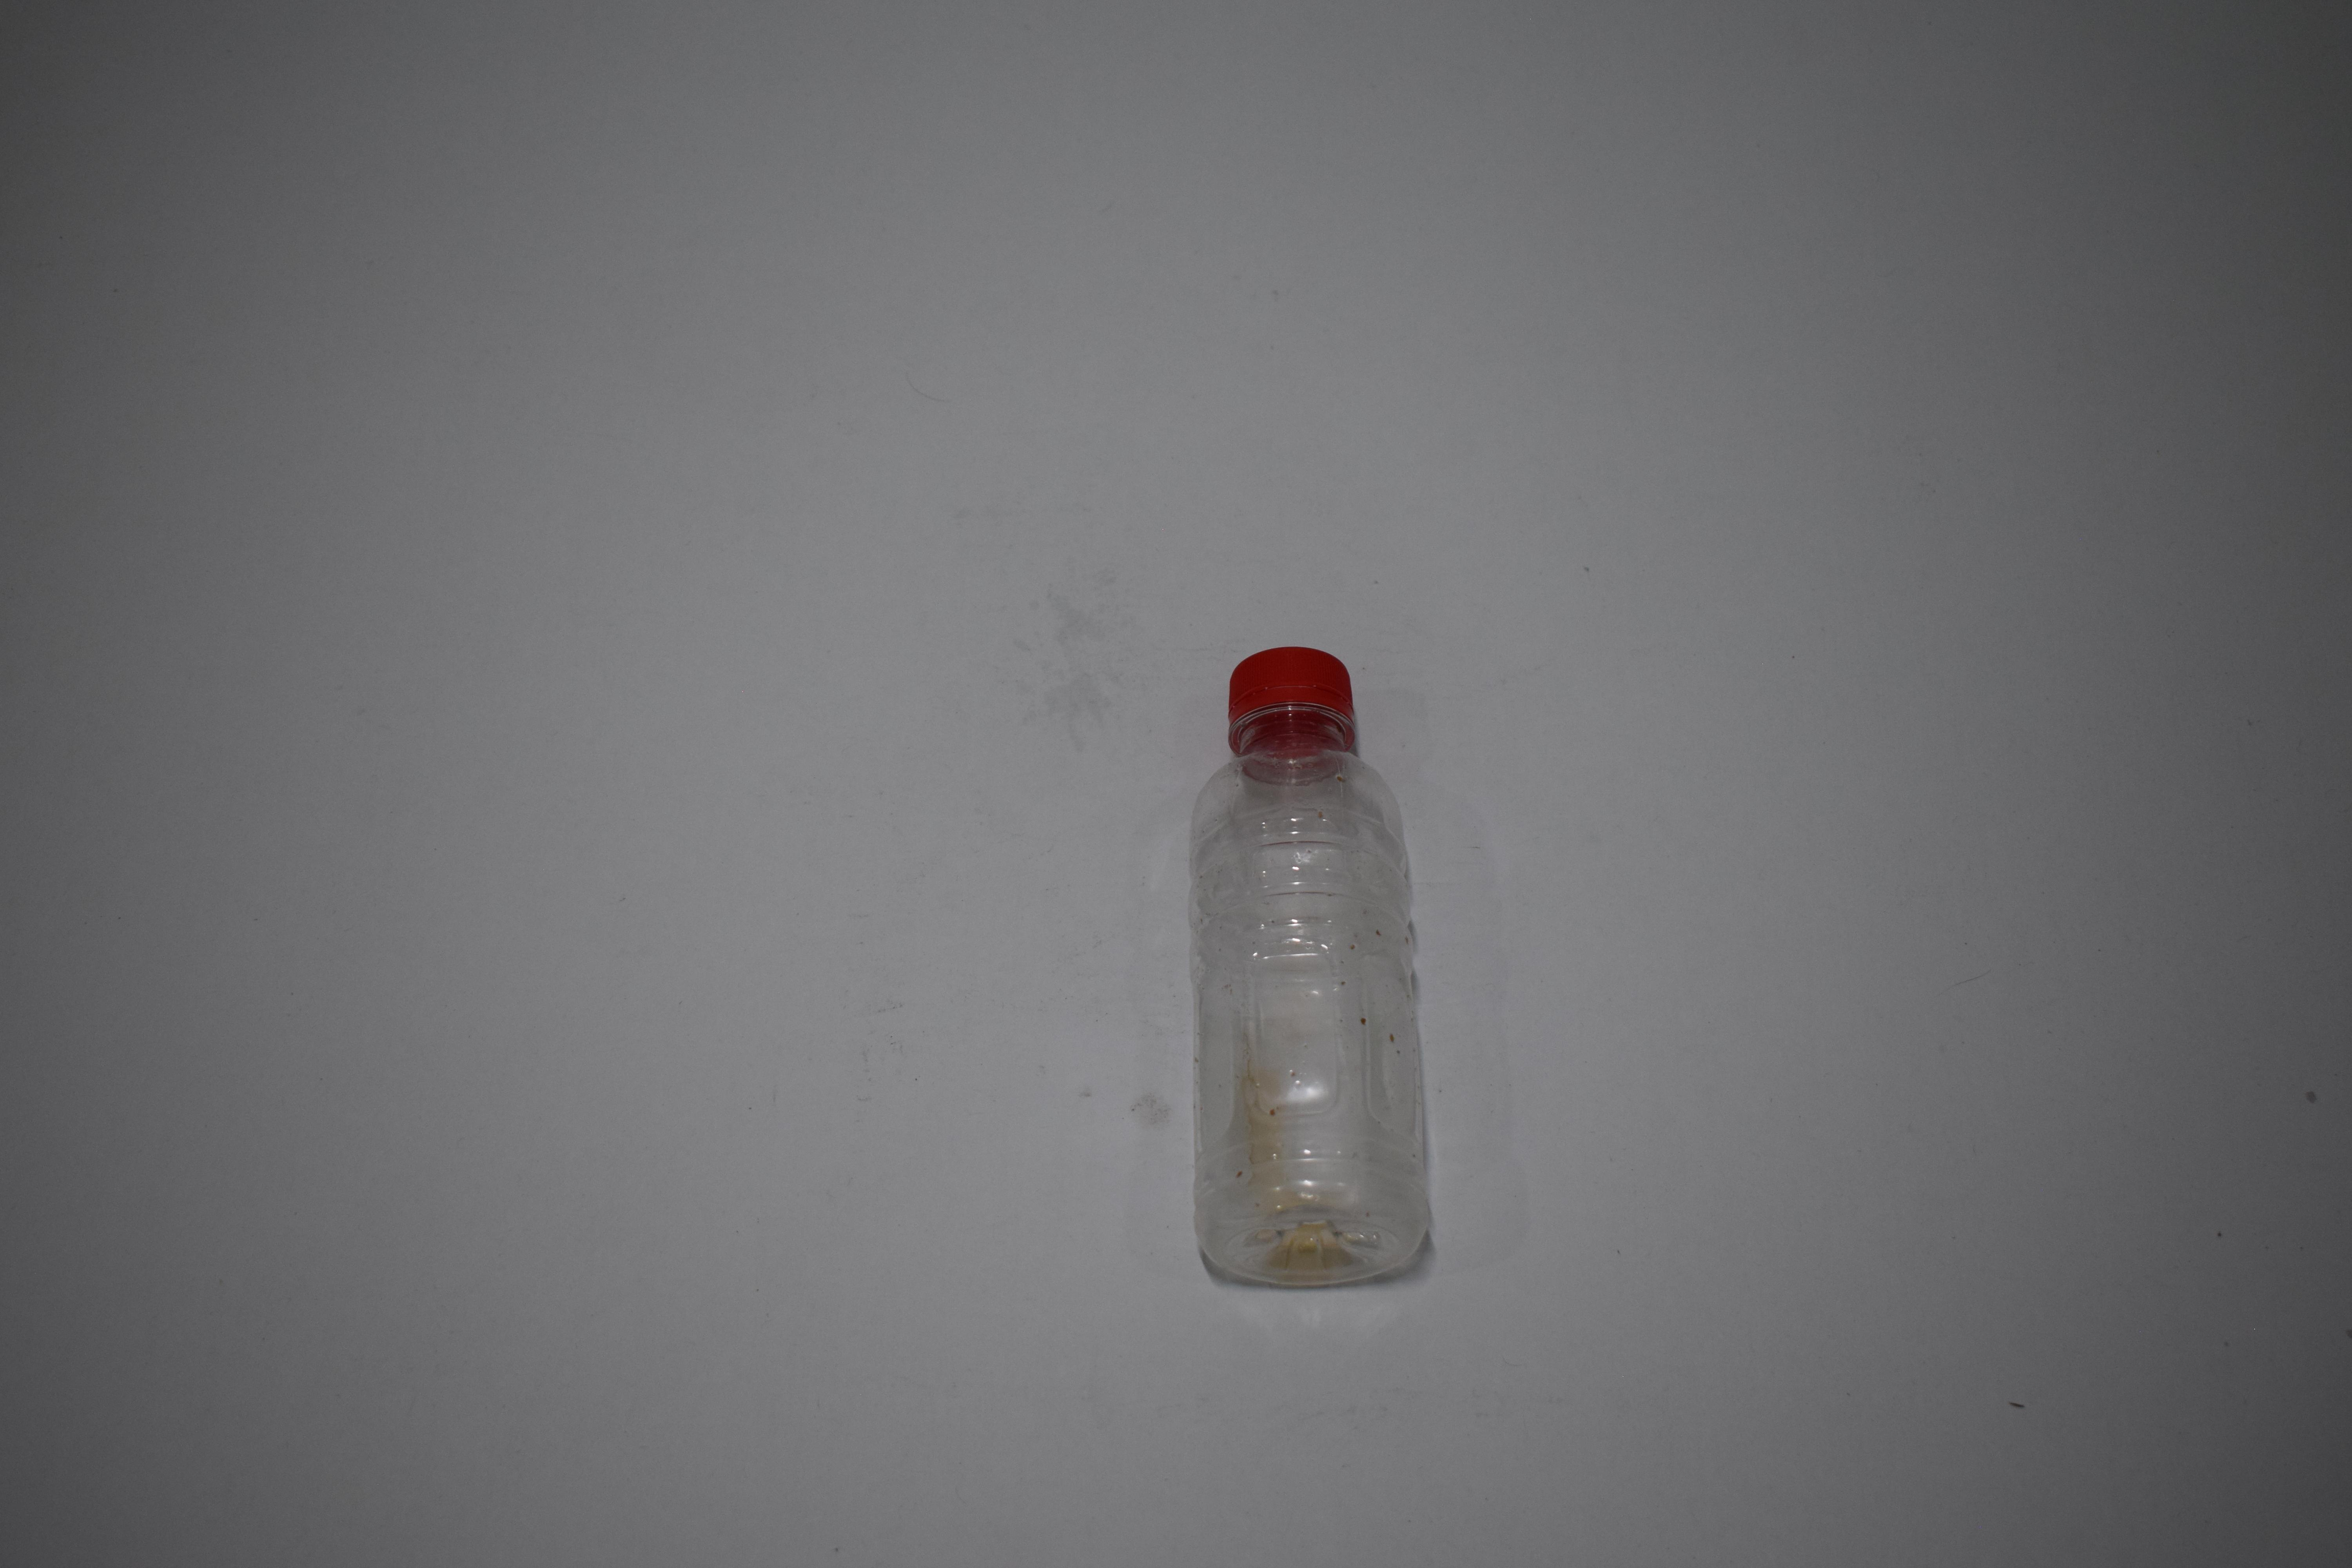bottle: (0, 626, 145, 1286)
